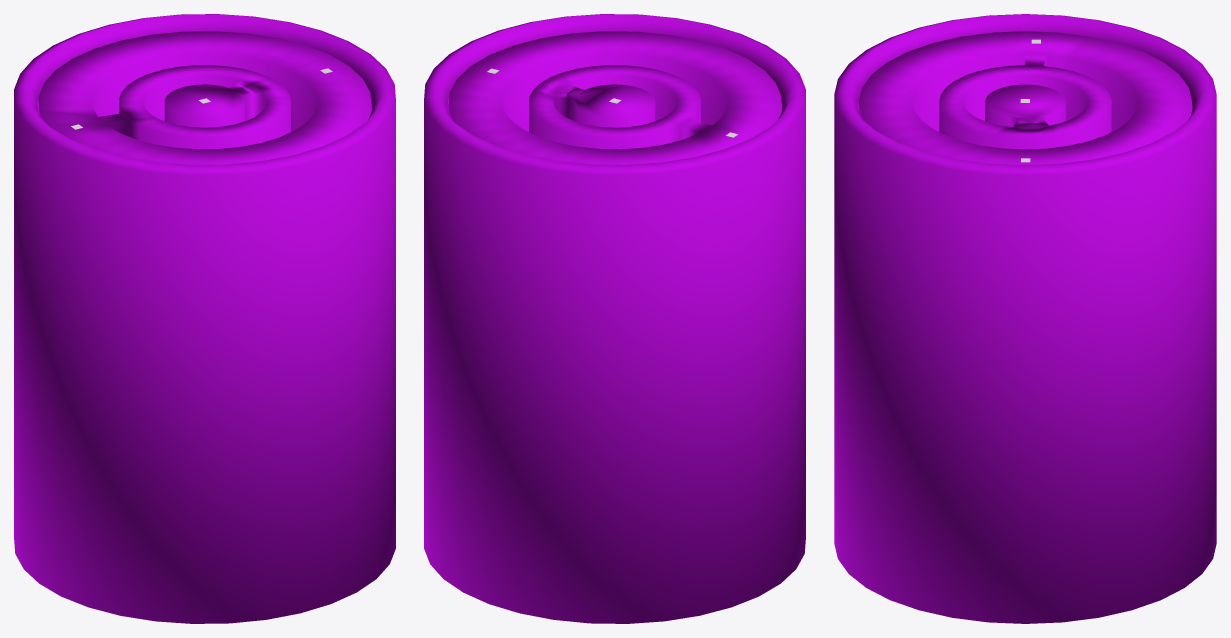
File: level-06.glb
3 views of the same model, side by side, from view 1: azimuth 30°, elevation 25°; view 2: azimuth 150°, elevation 25°; view 3: azimuth 270°, elevation 25° (orthographic).
Parts seen in each view (by area): view 1: Cylinder; view 2: Cylinder; view 3: Cylinder.
Boxes of the visible parts, x1,y1,x2,y2 form: Cylinder: [14, 14, 395, 623]; Cylinder: [424, 14, 805, 623]; Cylinder: [834, 14, 1216, 623].
Size of what is drawn, in the model's own units: 81.9 by 108 by 81.9.
